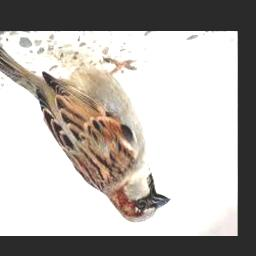Sparrow: (0, 46, 171, 222)
